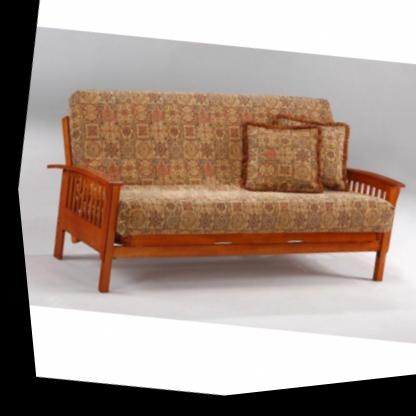Sofa: (10, 41, 416, 359)
